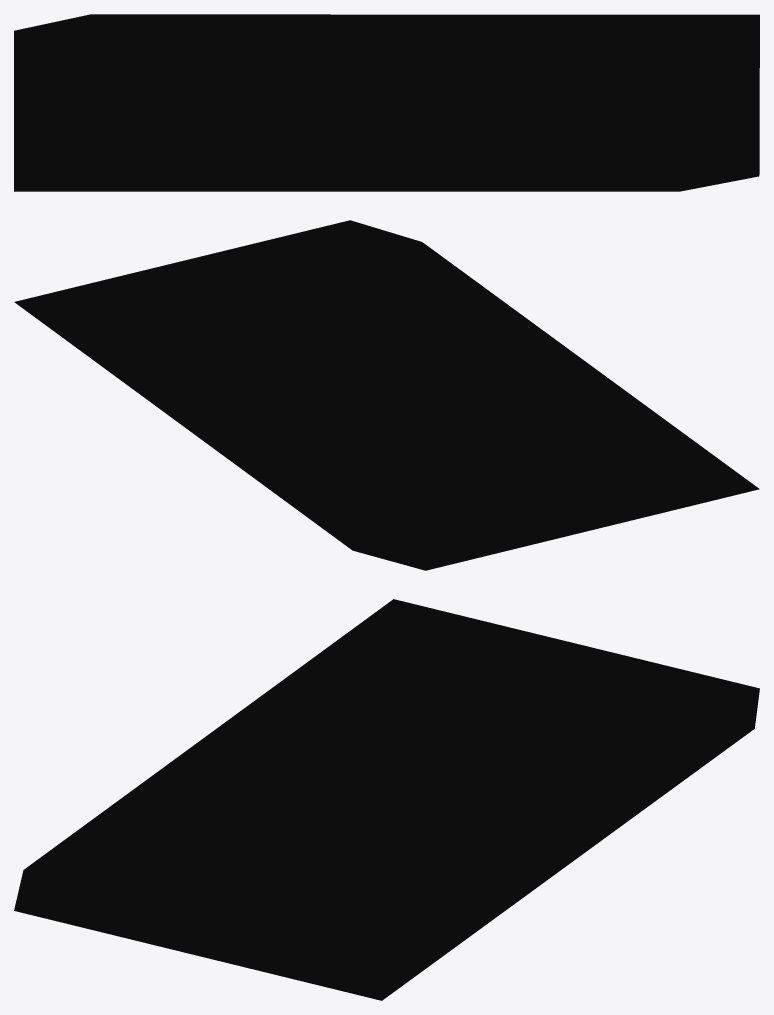
The picture shows the model from 3 angles, top to bottom: view 1: azimuth 30°, elevation 25°; view 2: azimuth 150°, elevation 25°; view 3: azimuth 270°, elevation 25°; orthographic projection. The views are drawn at different scales.
Visible parts, largest first — view 1: Joint_0_Object_0; view 2: Joint_0_Object_0; view 3: Joint_0_Object_0.
Boxes of the visible parts, x1,y1,x2,y2 form: Joint_0_Object_0: (14,14,759,191); Joint_0_Object_0: (14,220,759,570); Joint_0_Object_0: (14,599,759,1000).
Bounding box in the file's own units: 595 × 0 × 466.
Materials: 1 (1 with a texture image).
